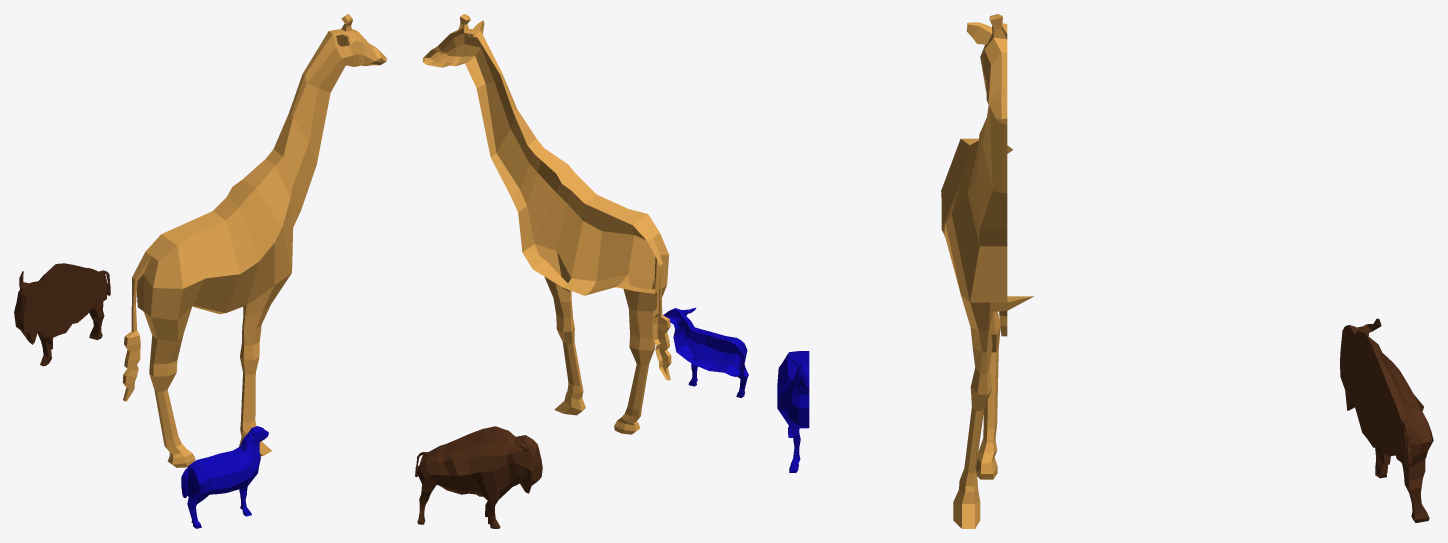
The model's file is sheepModel.glb.
3 renders of one model, left to right at view 1: azimuth 30°, elevation 25°; view 2: azimuth 150°, elevation 25°; view 3: azimuth 270°, elevation 25°, orthographic. The views are drawn at different scales.
Parts seen in each view (by area): view 1: Giraffe, Bidson, Sheep; view 2: Giraffe, Bidson, Sheep; view 3: Giraffe, Bidson, Sheep.
Boxes of the visible parts, box(x1,y1,x2,y2) form: Giraffe: box(122, 14, 386, 467); Bidson: box(14, 263, 110, 366); Sheep: box(181, 426, 268, 528); Giraffe: box(422, 14, 671, 434); Bidson: box(415, 426, 542, 528); Sheep: box(663, 308, 748, 397); Giraffe: box(941, 14, 1033, 528); Bidson: box(1340, 318, 1433, 522); Sheep: box(777, 351, 809, 472).
Size of what is drawn, in the model's own units: 4.09 by 5.81 by 5.97.
